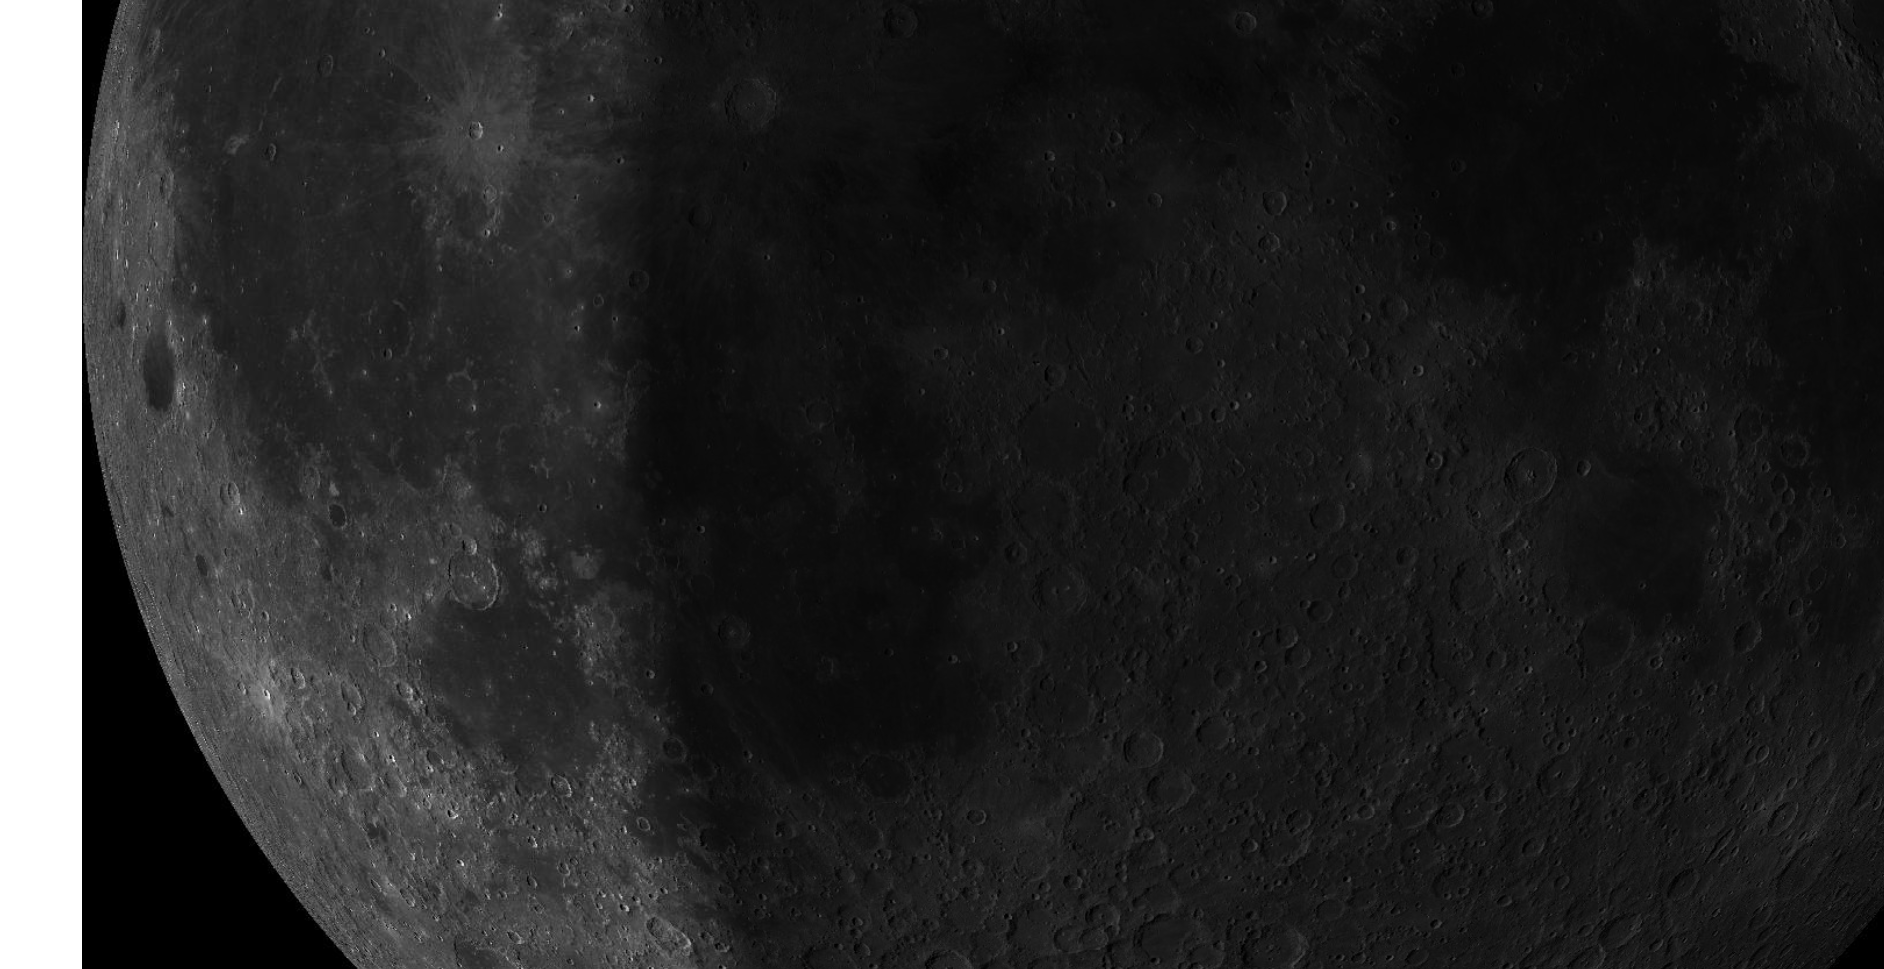crater: (1075, 420, 1219, 531), (135, 290, 208, 439), (1003, 662, 1100, 764), (350, 290, 442, 388), (1775, 138, 1862, 240), (432, 531, 520, 627), (699, 54, 797, 138), (279, 28, 362, 125), (1429, 539, 1520, 625), (823, 740, 931, 810), (1487, 420, 1566, 509), (694, 591, 776, 675), (1564, 591, 1642, 677), (780, 370, 847, 455), (1106, 698, 1172, 784), (1203, 2, 1287, 66), (852, 609, 910, 696), (1717, 598, 1772, 679), (1524, 743, 1588, 807), (435, 98, 502, 158), (351, 613, 411, 679), (612, 253, 676, 314), (1302, 480, 1365, 538), (927, 627, 978, 696), (1373, 274, 1427, 339), (1243, 169, 1298, 221), (206, 472, 259, 520), (917, 324, 961, 377), (645, 727, 691, 775), (318, 492, 358, 536), (576, 384, 614, 425), (969, 264, 1006, 307)
